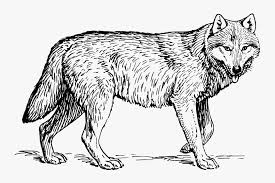Lobo: (19, 10, 260, 168)
